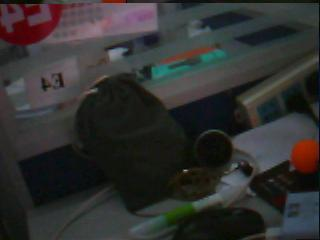oball: (290, 138, 320, 171)
